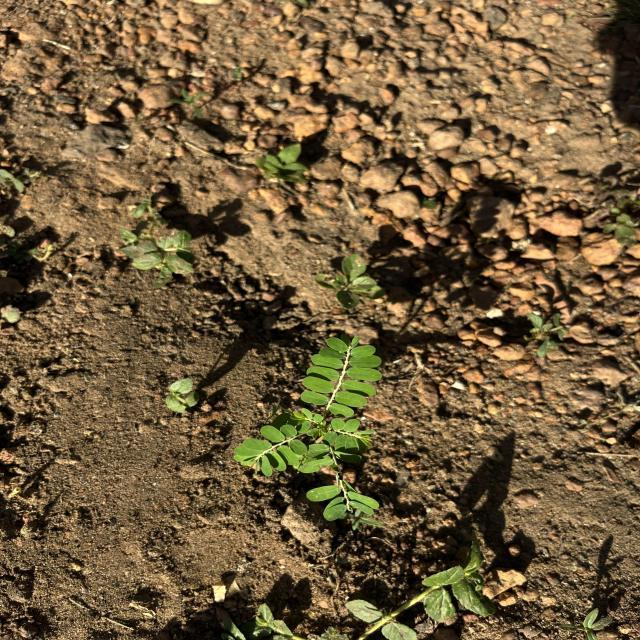Phyllanthus niruri: (298, 334, 385, 422), (232, 421, 311, 478), (320, 416, 380, 454)
